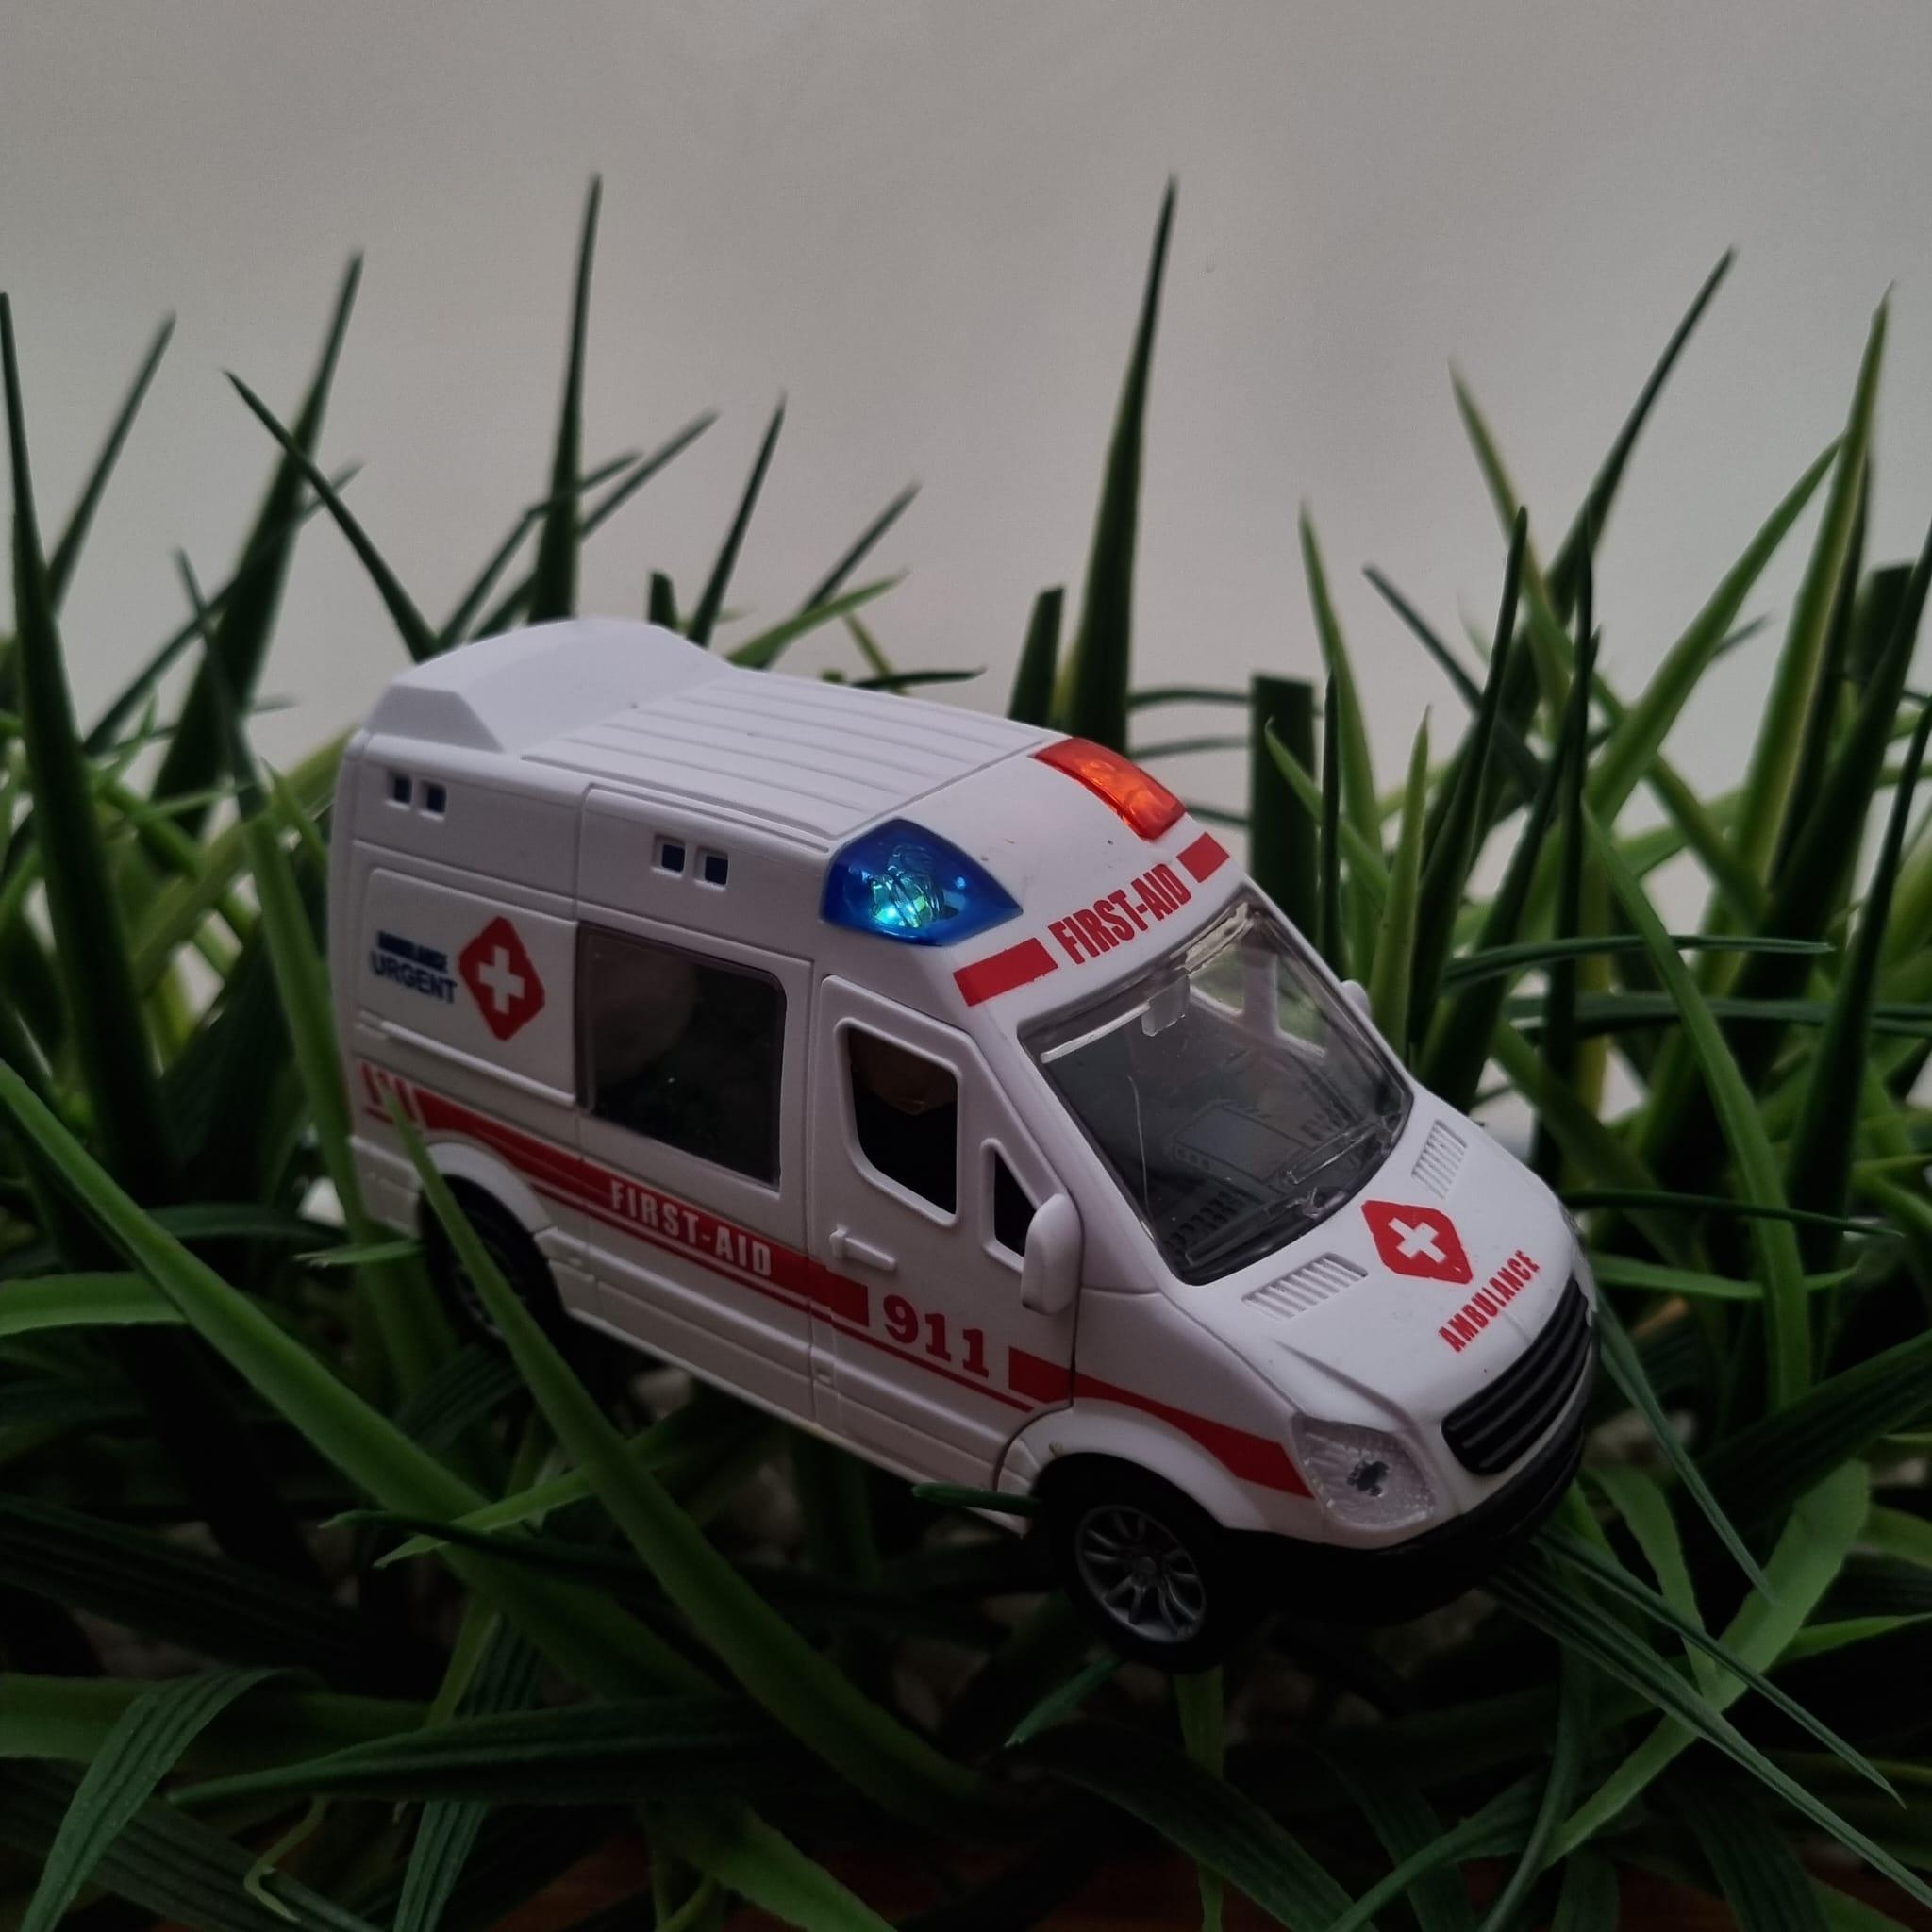ambulance_on: (317, 609, 1599, 1681)
